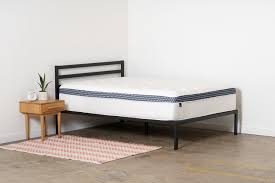bed-matress: (52, 76, 238, 121)
